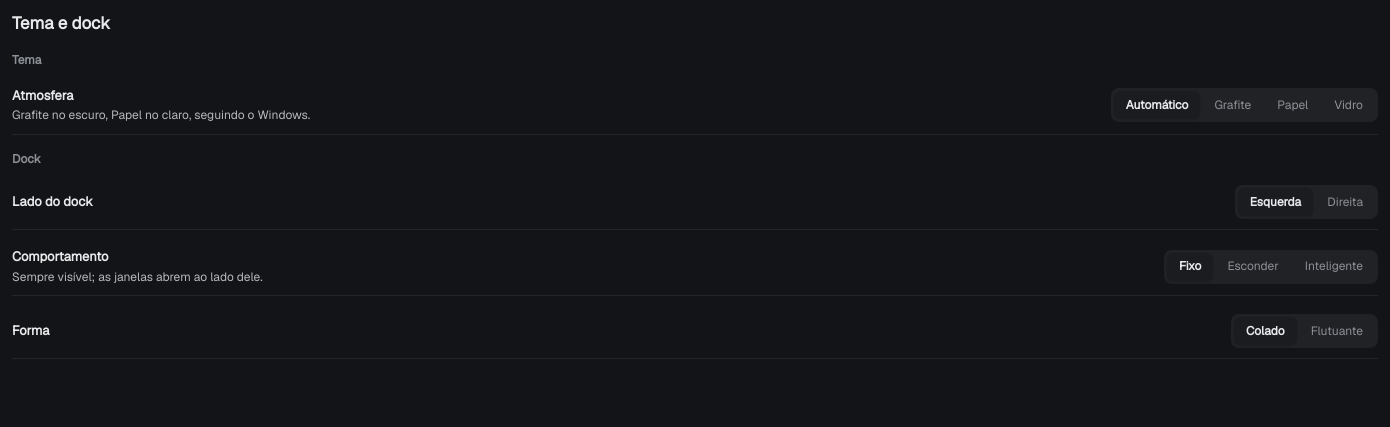
Scenario: Tema e dock › a recusa da casca vira mensagem e a opção anterior continua marcada
Click the radio button labelled "Direita" at (1345, 202), box [1315,188,1375,216]
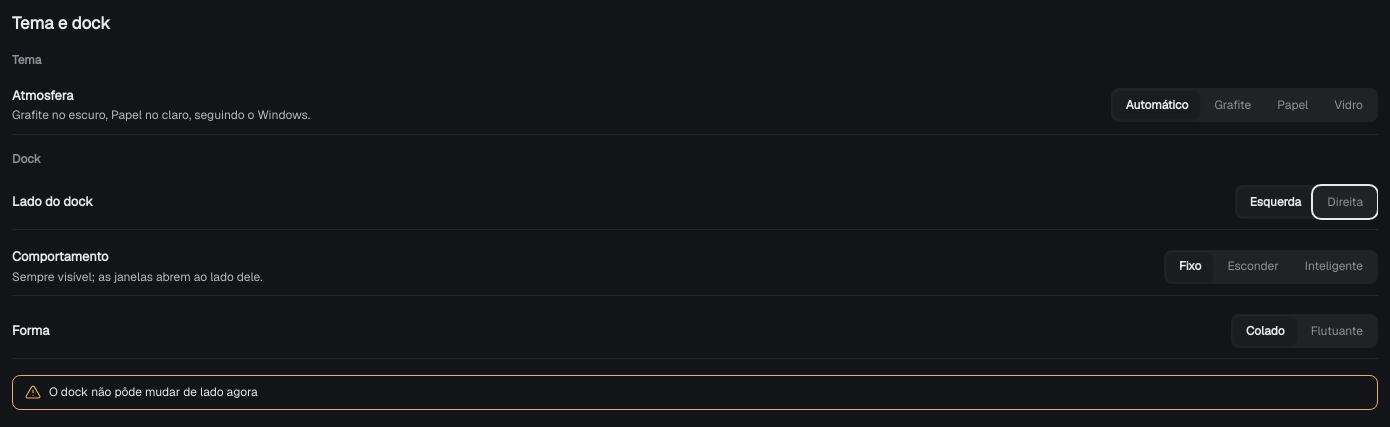
Now the text "O dock não pôde mudar de lado agora" is shown, box [49,384,258,401]
